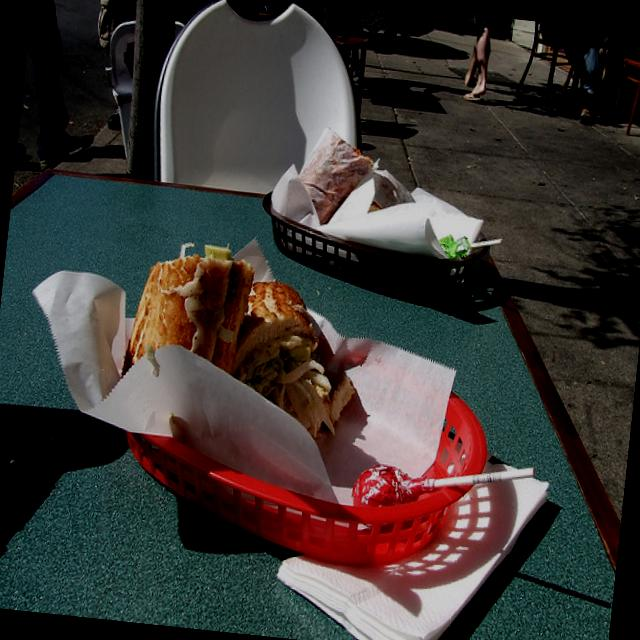Vehicle: (384, 6, 439, 36)
